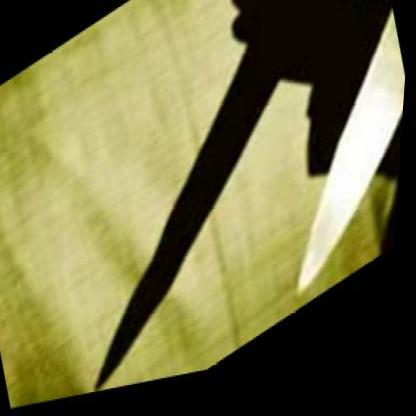knife: (239, 14, 411, 329)
